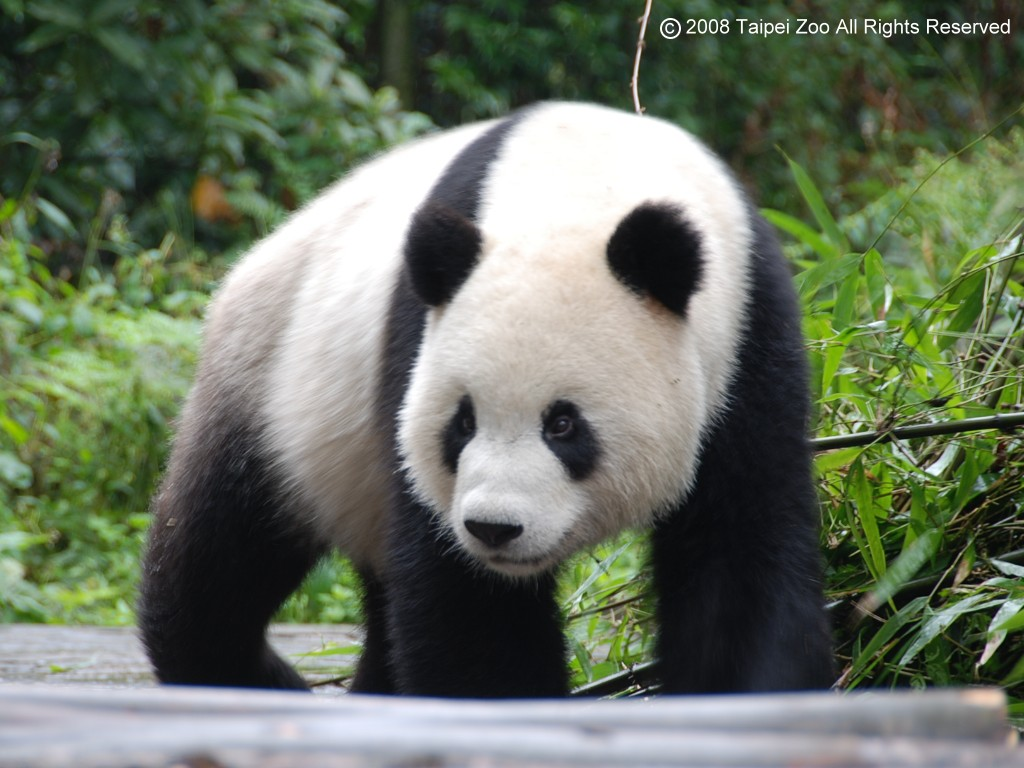panda: (141, 97, 854, 704)
